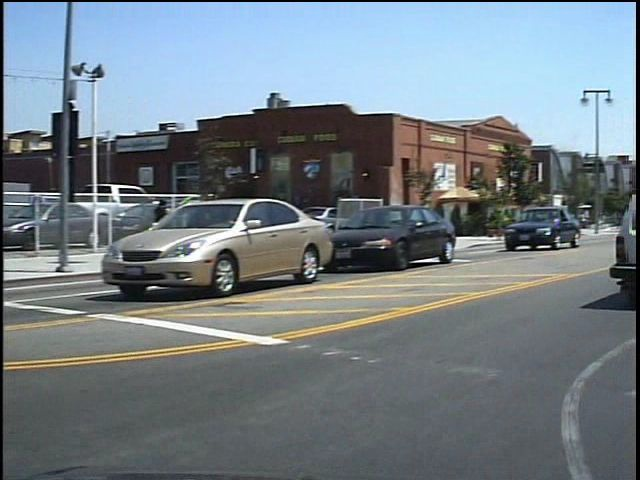person: (159, 191, 186, 258)
